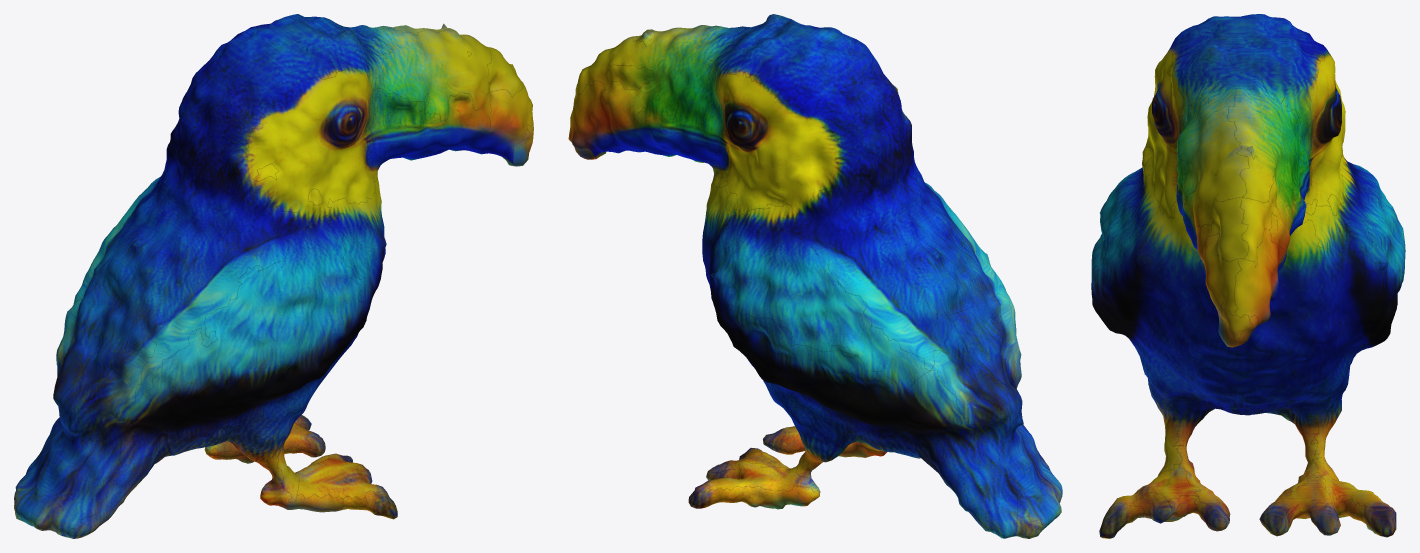
The model's file is Owl.glb.
3 renders of one model, left to right at view 1: azimuth 30°, elevation 25°; view 2: azimuth 150°, elevation 25°; view 3: azimuth 270°, elevation 25°, orthographic. The views are drawn at different scales.
Parts seen in each view (by area): view 1: Mesh1; view 2: Mesh1; view 3: Mesh1.
Part boxes in pixels (x1,y1,x2,y2): Mesh1: (14,14,533,538); Mesh1: (568,14,1062,538); Mesh1: (1091,14,1405,538).
Size of the model in its own units: 1.2 by 1.04 by 0.5977.
Materials: 1 (1 with a texture image).
